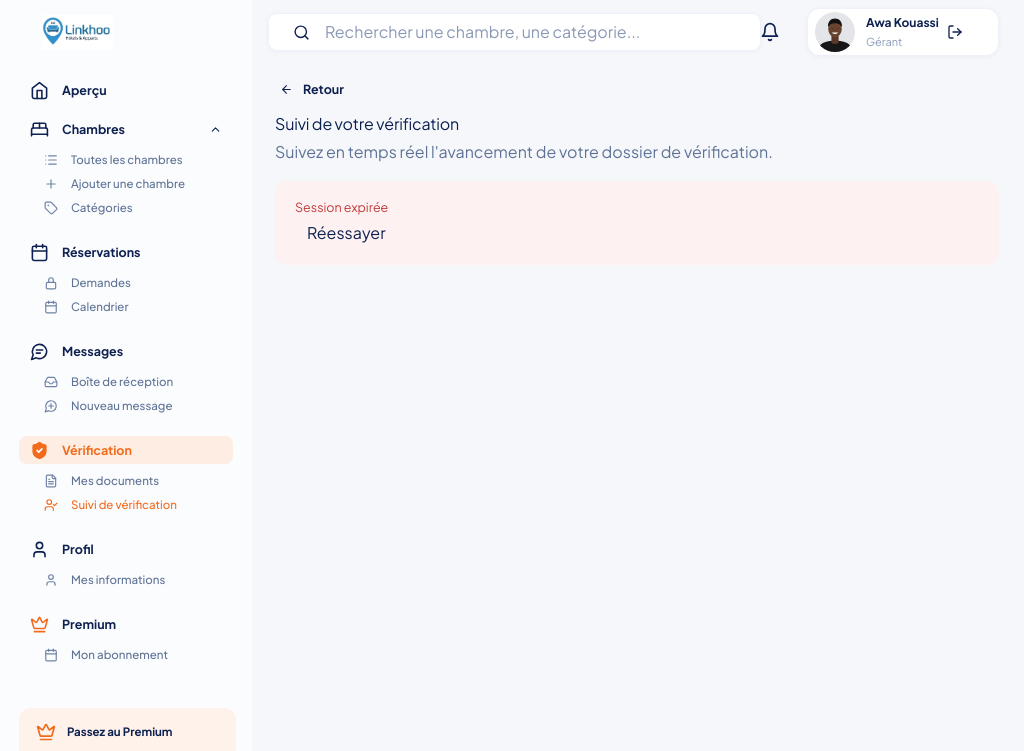
Scenario: SuiviVerificationPage › signale une erreur de chargement et permet de réessayer
Expected: the message shows "Session expirée", [295,198,388,214]
Click the button "Réessayer" at (346,232), box [295,216,398,248]
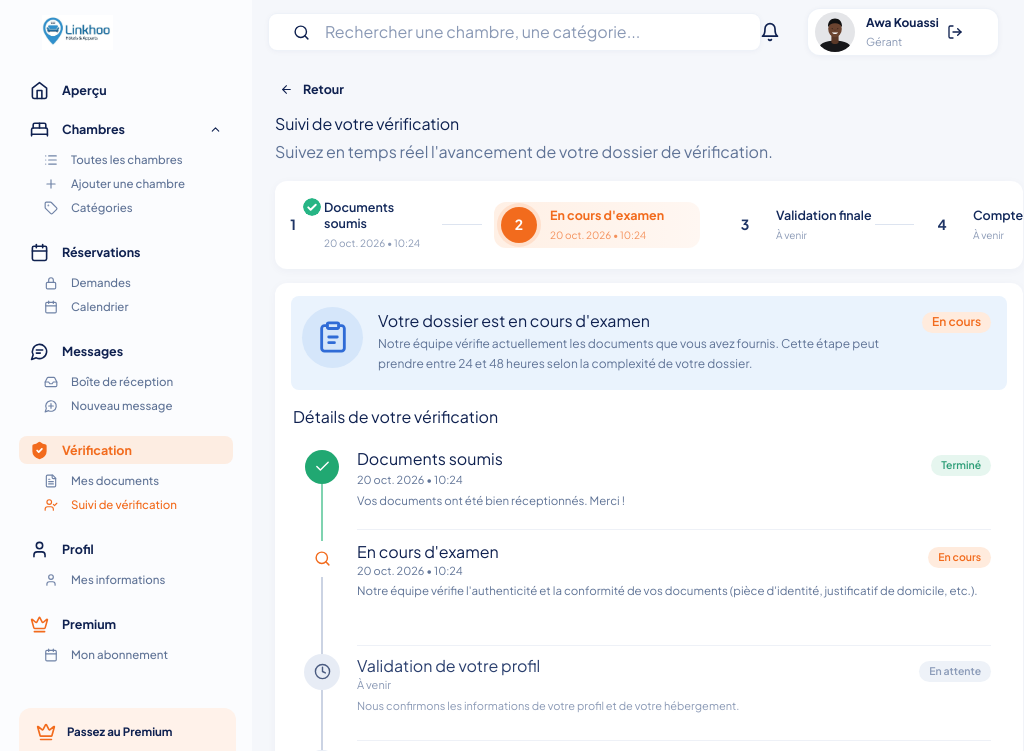
Result: the heading "Votre dossier est en cours d'examen" is shown at [378,310,650,330]
Result: the message "Session expirée Réessayer" is gone
